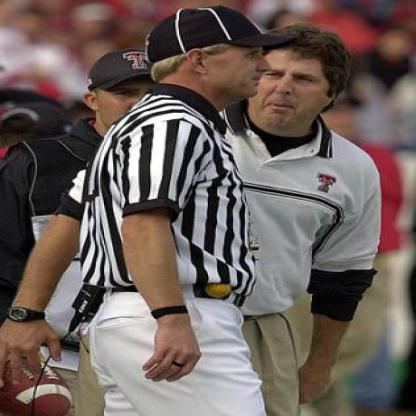face: (253, 28, 340, 132), (207, 12, 279, 101), (99, 53, 173, 138)
